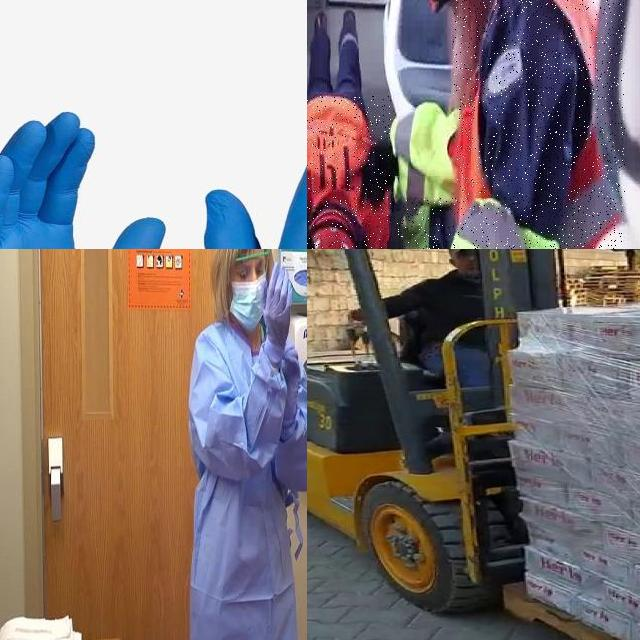GLOVE: (0, 81, 173, 249), (199, 79, 307, 249)
Glove: (262, 256, 296, 360)
HELMET: (307, 205, 361, 249)
MASK: (226, 275, 266, 321)
VEST: (452, 0, 625, 249), (307, 96, 391, 249), (392, 95, 458, 236), (396, 198, 565, 249)
